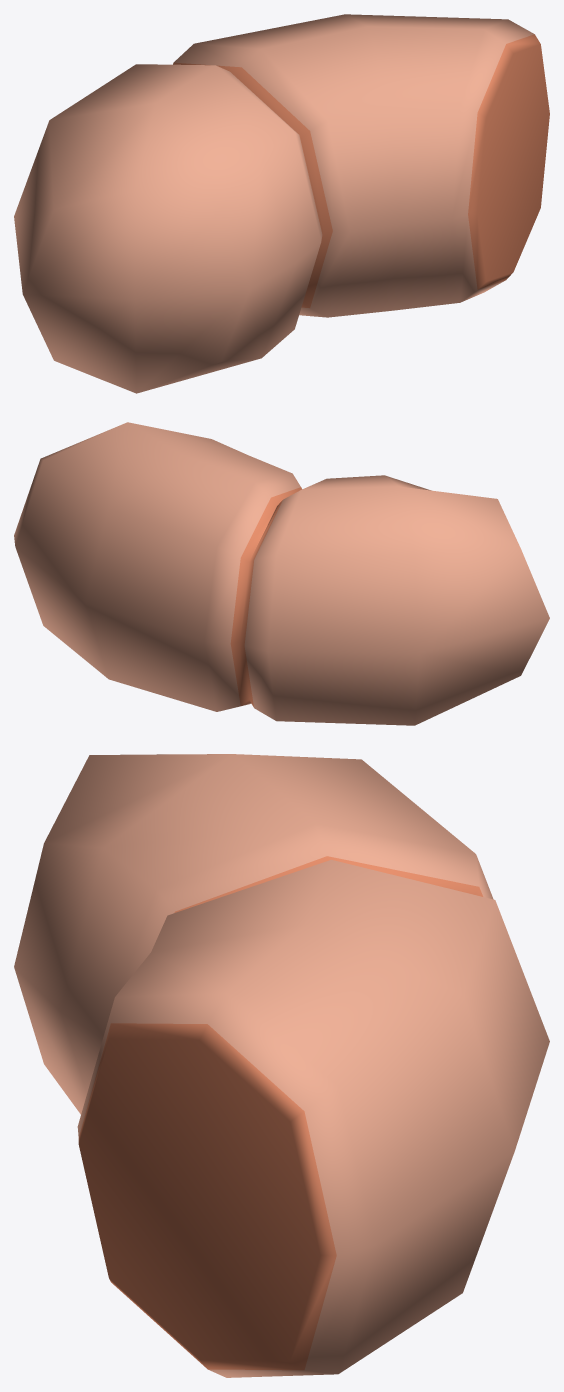
File: Shrimp_1_Peeled_2_Half_2.fbx
3 views of the same model, one above another, from view 1: azimuth 30°, elevation 25°; view 2: azimuth 150°, elevation 25°; view 3: azimuth 270°, elevation 25° (orthographic). The views are drawn at different scales.
Visible parts, largest first — view 1: Shrimp_1_Peeled_2_Half_2; view 2: Shrimp_1_Peeled_2_Half_2; view 3: Shrimp_1_Peeled_2_Half_2.
Part boxes in pixels (x1=…): Shrimp_1_Peeled_2_Half_2: x1=14, y1=14, x2=549, y2=393; Shrimp_1_Peeled_2_Half_2: x1=14, y1=422, x2=549, y2=725; Shrimp_1_Peeled_2_Half_2: x1=14, y1=754, x2=549, y2=1377.
Size of the model in its own units: 8.83 by 3.95 by 4.83.
